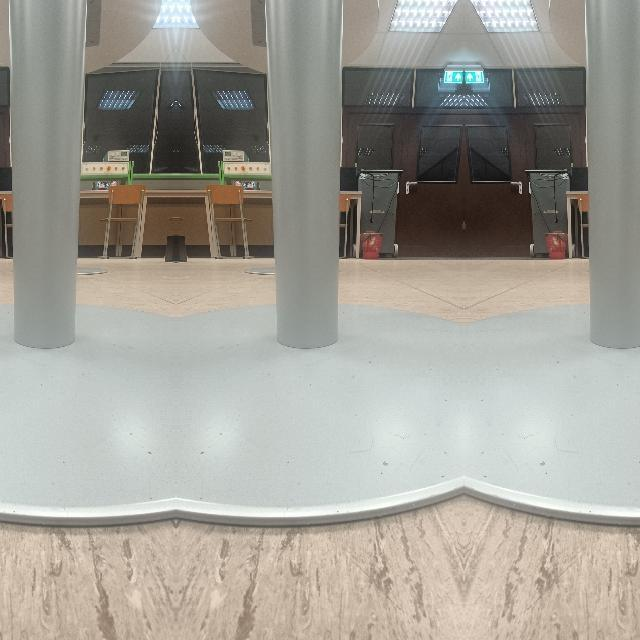obstacle: (181, 105, 464, 527), (463, 105, 640, 527), (0, 105, 169, 527)
